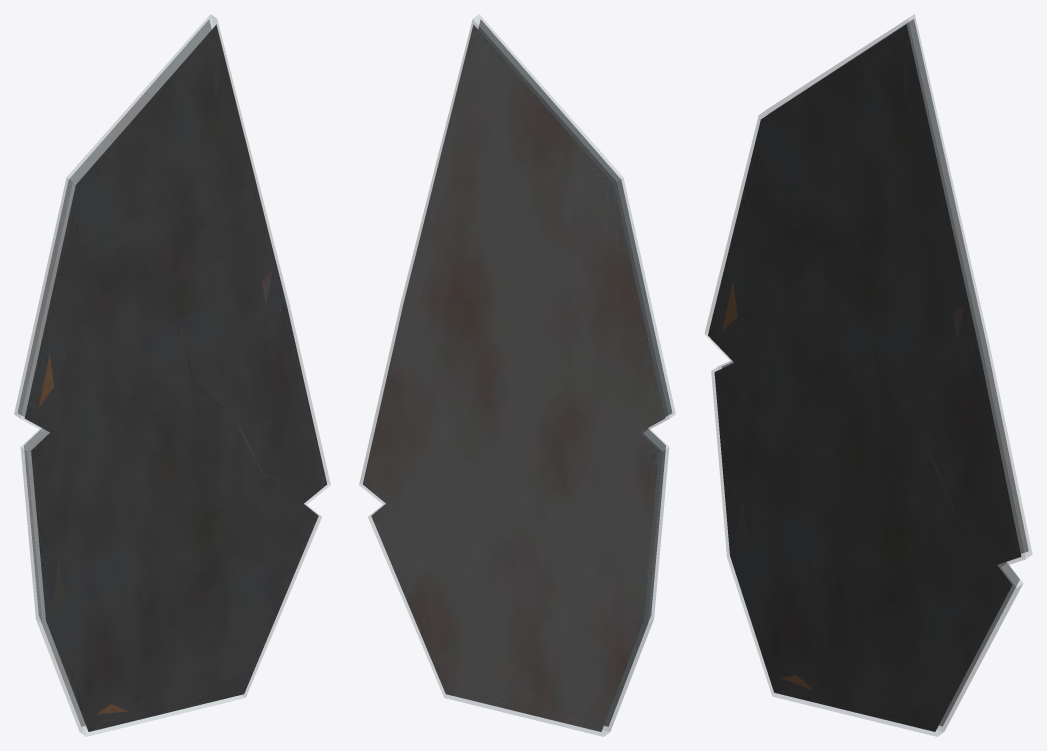
Rendered from P23_mirror_shard.glb.
3 views of the same model, side by side, from view 1: azimuth 30°, elevation 25°; view 2: azimuth 150°, elevation 25°; view 3: azimuth 330°, elevation 25° (orthographic). The views are drawn at different scales.
Visible parts, largest first — view 1: Broken mirror glass body; view 2: Broken mirror glass body; view 3: Broken mirror glass body.
Boxes of the visible parts, bbox=[...] form: Broken mirror glass body: bbox=[14, 14, 330, 736]; Broken mirror glass body: bbox=[359, 14, 675, 736]; Broken mirror glass body: bbox=[704, 14, 1032, 736].
Bounding box in the file's own units: 0.142 × 0.3 × 0.006.
Materials: 5 (4 with a texture image).
